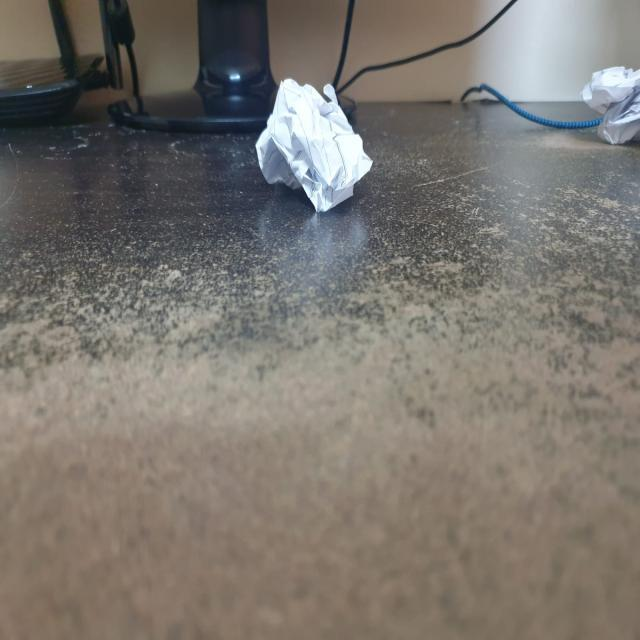Paper: (259, 79, 370, 210)
